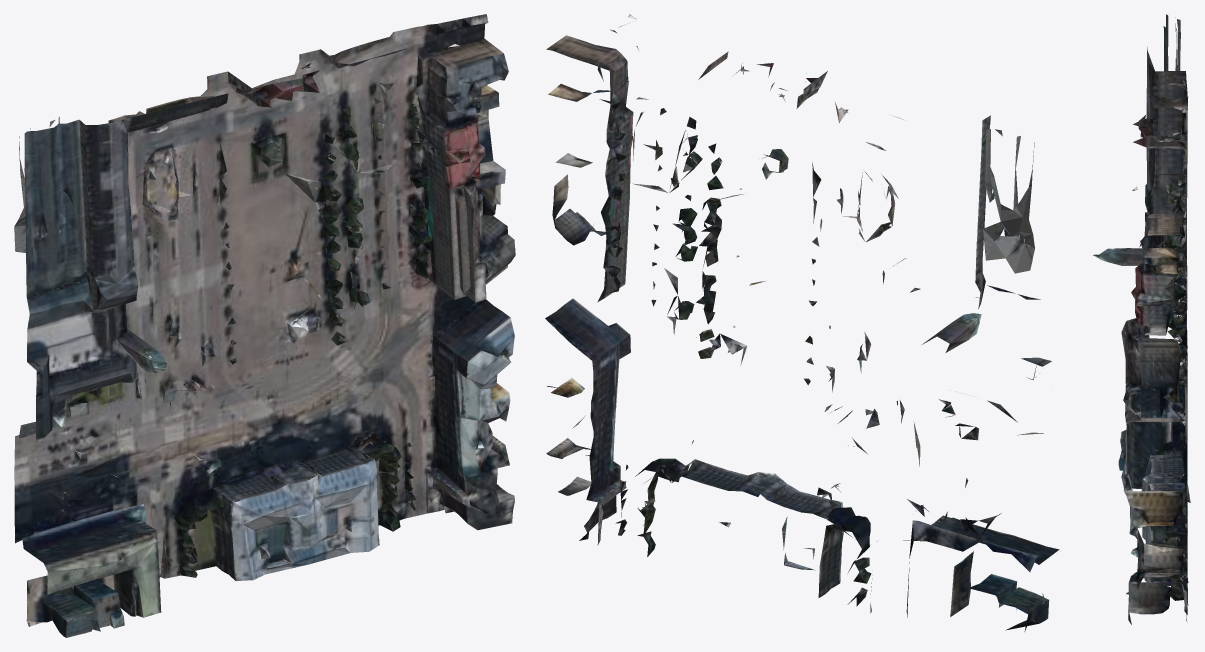
The model's file is Tile_+034_+021_L16_000.glb.
3 views of the same model, side by side, from view 1: azimuth 30°, elevation 25°; view 2: azimuth 150°, elevation 25°; view 3: azimuth 270°, elevation 25° (orthographic). The views are drawn at different scales.
Bounding box in the file's own units: 250 × 250 × 52.36.
1 material, 1 textured.
